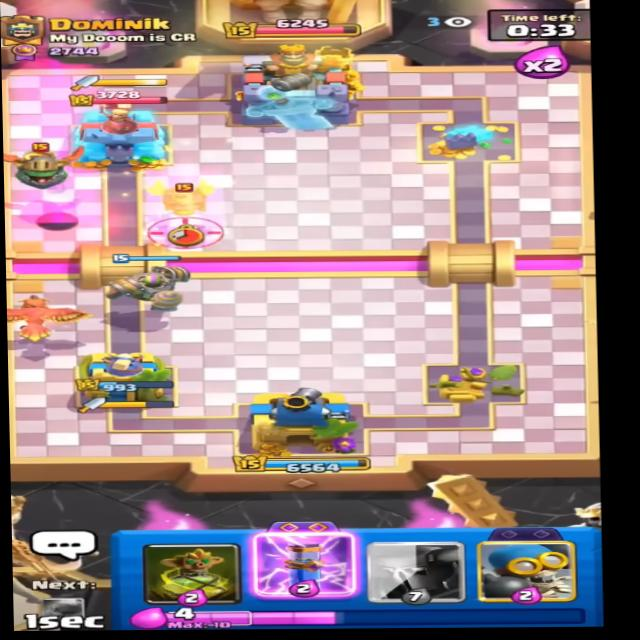inferno-dragon: (7, 137, 82, 191)
lava-hound: (137, 175, 221, 222)
